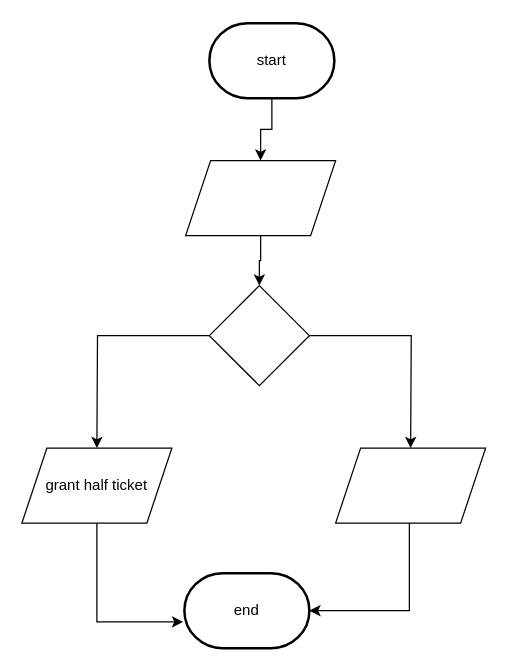
This 508x670 diagram has some shape labels left out. The box of each missing label's shape, as (x1, y1, x2, y2) in pixels:
enter input you age: (184, 159, 336, 236)
is age less than 12: (208, 284, 309, 386)
